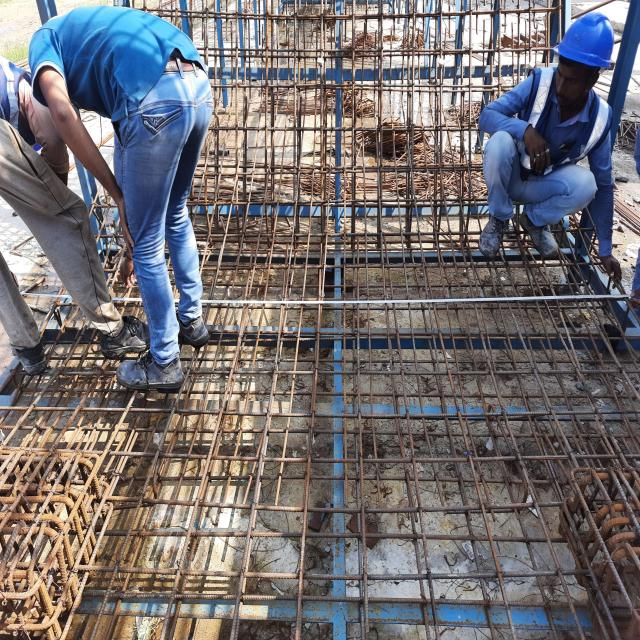Boots: (116, 353, 180, 391), (525, 213, 555, 256), (177, 308, 209, 348), (479, 214, 504, 253)
Hardhat: (557, 12, 617, 68)
No-safetyvest: (36, 10, 207, 137)
Person: (27, 7, 211, 387), (483, 14, 618, 273)
Safetyvest: (522, 60, 606, 184)
